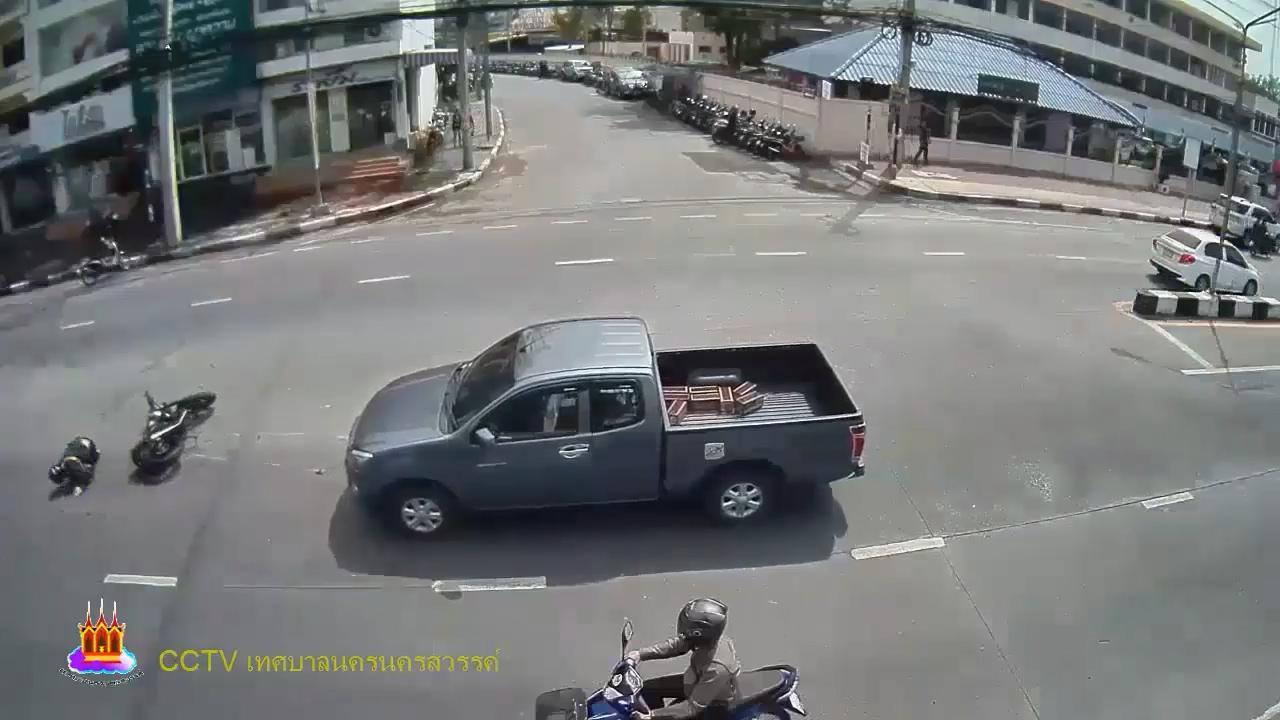accident: (49, 435, 98, 502)
